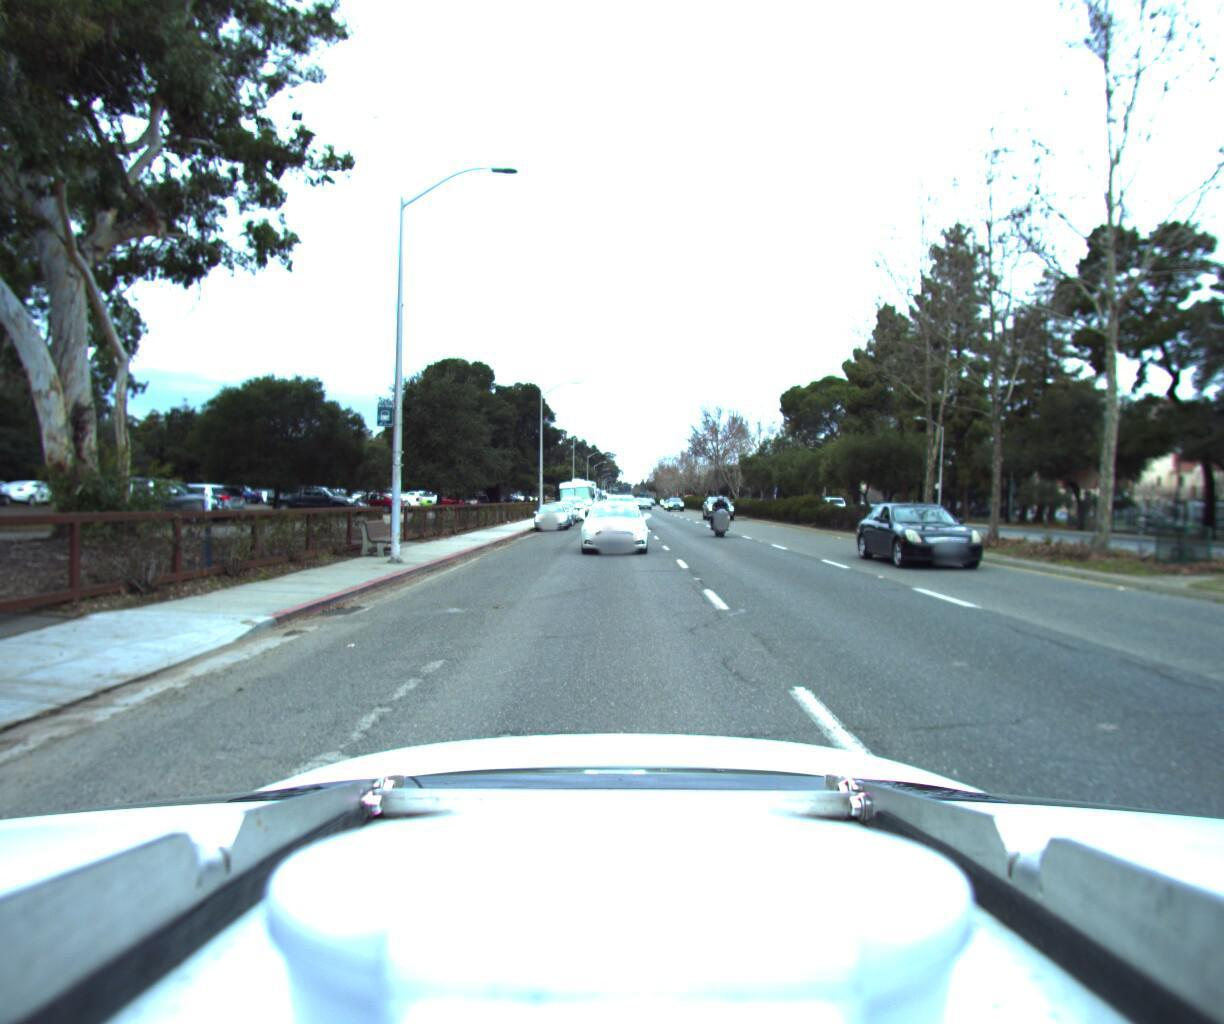car: (865, 492, 1028, 576), (575, 494, 646, 554), (603, 489, 641, 521), (532, 493, 570, 524), (540, 491, 575, 520), (432, 485, 480, 503), (557, 486, 587, 514)
motorcycle: (712, 487, 745, 535)
other_vehicle: (553, 467, 600, 511)
